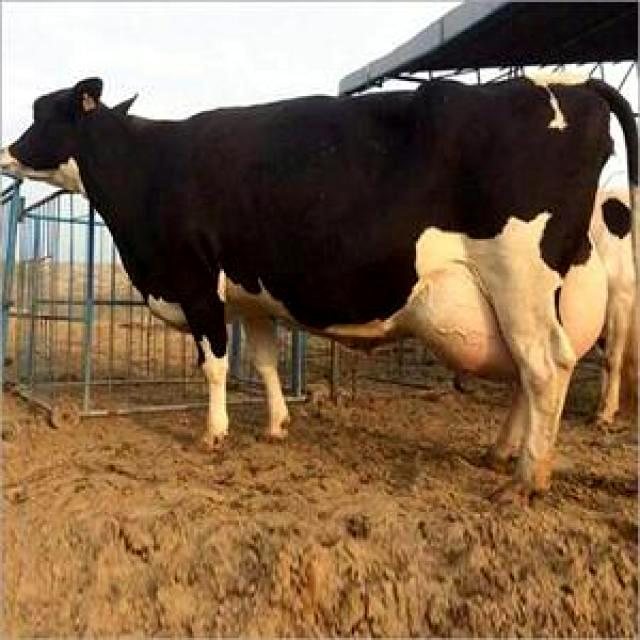COW: (2, 80, 638, 490)
